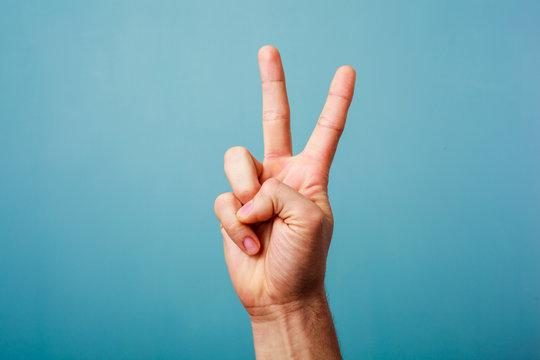peace_sign: (211, 41, 367, 323)
